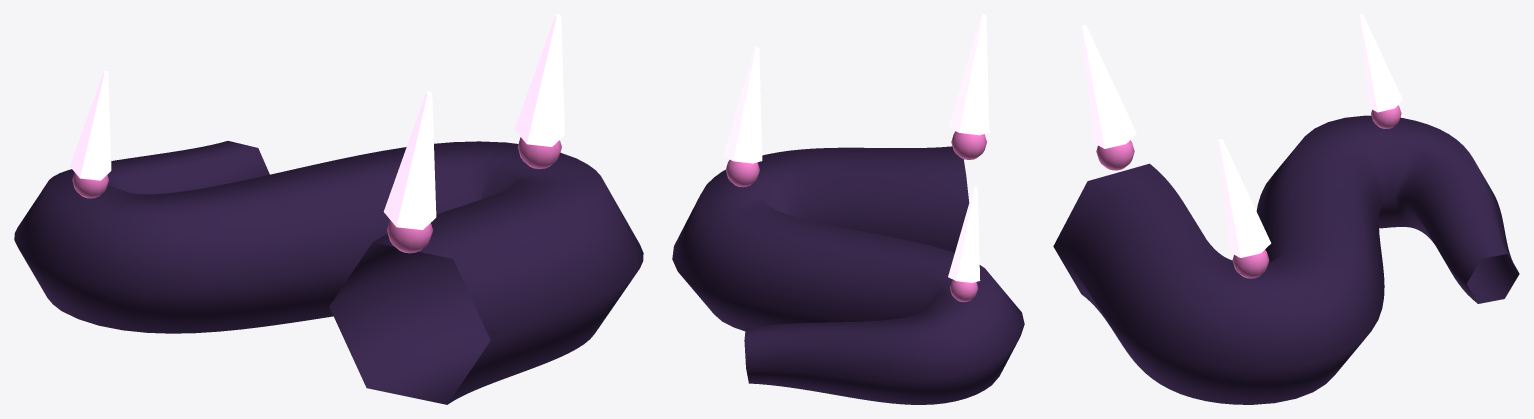
File: SM_Keeper_Apep_Body_F18.fbx
The picture shows the model from 3 angles, left to right: view 1: azimuth 30°, elevation 25°; view 2: azimuth 150°, elevation 25°; view 3: azimuth 270°, elevation 25°; orthographic projection. The views are drawn at different scales.
Parts seen in each view (by area): view 1: SM_Keeper_Apep_Body_F18; view 2: SM_Keeper_Apep_Body_F18; view 3: SM_Keeper_Apep_Body_F18.
Boxes of the visible parts, x1=… form: SM_Keeper_Apep_Body_F18: x1=14, y1=14, x2=643, y2=404; SM_Keeper_Apep_Body_F18: x1=672, y1=14, x2=1024, y2=404; SM_Keeper_Apep_Body_F18: x1=1053, y1=14, x2=1519, y2=404.
Bounding box in the file's own units: 6.74 × 4.36 × 6.55.
